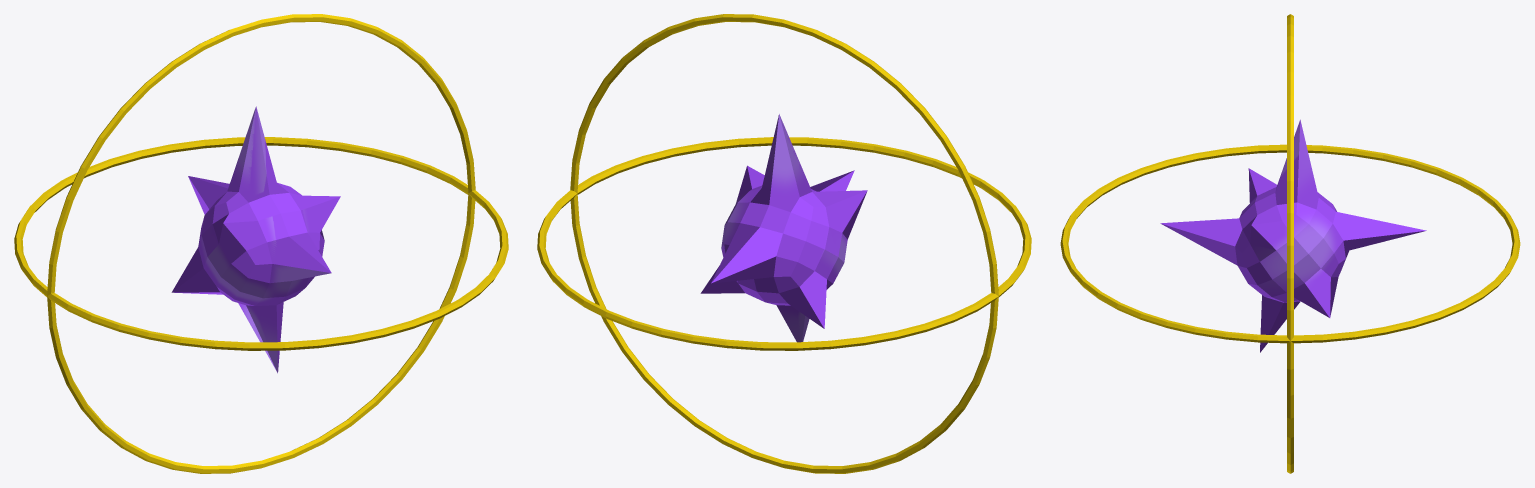
File: spell_default2.glb
3 views of the same model, side by side, from view 1: azimuth 30°, elevation 25°; view 2: azimuth 150°, elevation 25°; view 3: azimuth 270°, elevation 25° (orthographic). The views are drawn at different scales.
Visible parts, largest first — view 1: spell_default, Torus, Torus.001; view 2: spell_default, Torus, Torus.001; view 3: spell_default, Torus.001, Torus.
Part boxes in pixels (<box>): spell_default: <box>171,106,340,373</box>; Torus: <box>47,14,475,473</box>; Torus.001: <box>14,137,508,350</box>; spell_default: <box>700,114,867,342</box>; Torus: <box>570,14,998,473</box>; Torus.001: <box>537,137,1031,350</box>; spell_default: <box>1160,119,1426,352</box>; Torus.001: <box>1060,144,1520,343</box>; Torus: <box>1287,14,1293,473</box>.
Bounding box in the file's own units: 1.16 × 1.16 × 1.16.
Materials: 2 (2 with a texture image).
